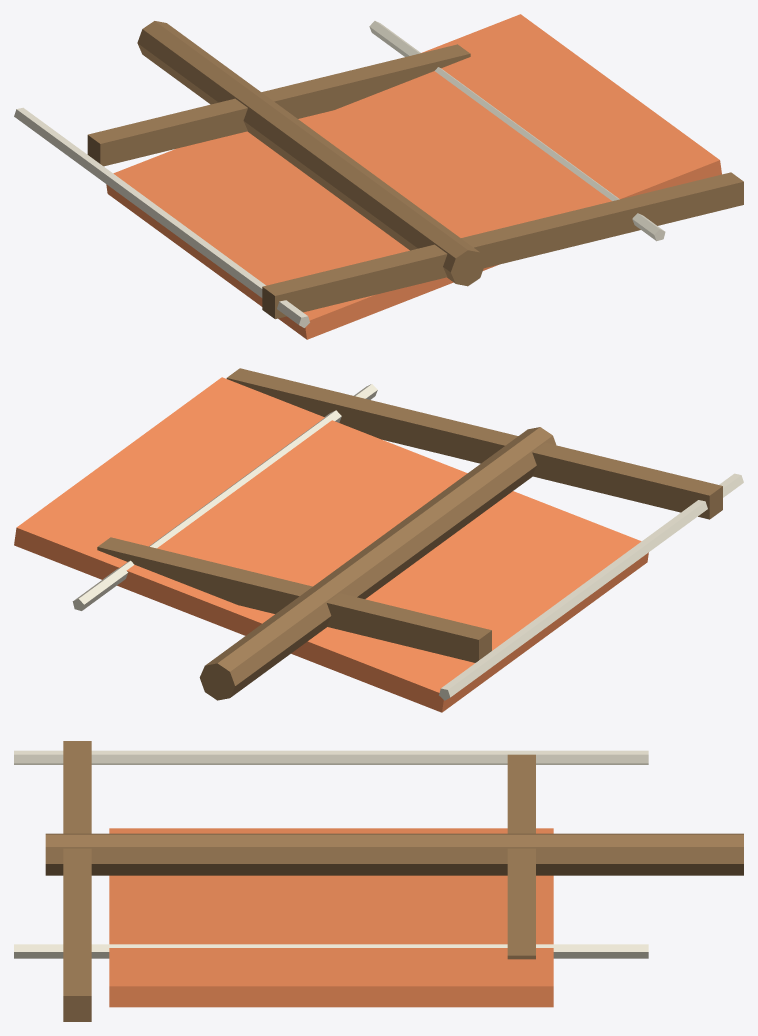
The model's file is 07_skyship_rigging.glb.
The picture shows the model from 3 angles, top to bottom: view 1: azimuth 30°, elevation 25°; view 2: azimuth 150°, elevation 25°; view 3: azimuth 270°, elevation 25°; orthographic projection. The views are drawn at different scales.
Parts seen in each view (by area): view 1: sail_panel, spar_top, mast, spar_bottom, rigging_line_l, rigging_line_r; view 2: sail_panel, mast, spar_top, spar_bottom, rigging_line_l, rigging_line_r; view 3: sail_panel, mast, rigging_line_l, spar_top, spar_bottom, rigging_line_r.
Part boxes in pixels (box(x1,y1,x2,y2)): sail_panel: box(106, 14, 721, 339); spar_top: box(262, 172, 743, 319); mast: box(137, 21, 484, 286); spar_bottom: box(87, 44, 470, 166); rigging_line_l: box(14, 107, 309, 327); rigging_line_r: box(369, 21, 665, 241); sail_panel: box(14, 377, 648, 712); mast: box(199, 427, 556, 700); spar_top: box(226, 368, 722, 519); spar_bottom: box(97, 537, 491, 662); rigging_line_l: box(439, 473, 743, 700); rigging_line_r: box(72, 384, 377, 610); sail_panel: box(109, 828, 553, 1007); mast: box(45, 833, 743, 875); rigging_line_l: box(14, 750, 648, 764); spar_top: box(63, 741, 91, 1021); spar_bottom: box(507, 754, 535, 959); rigging_line_r: box(14, 944, 648, 958).
Size of the model in its own units: 0.9025 by 0.1453 by 1.09.
